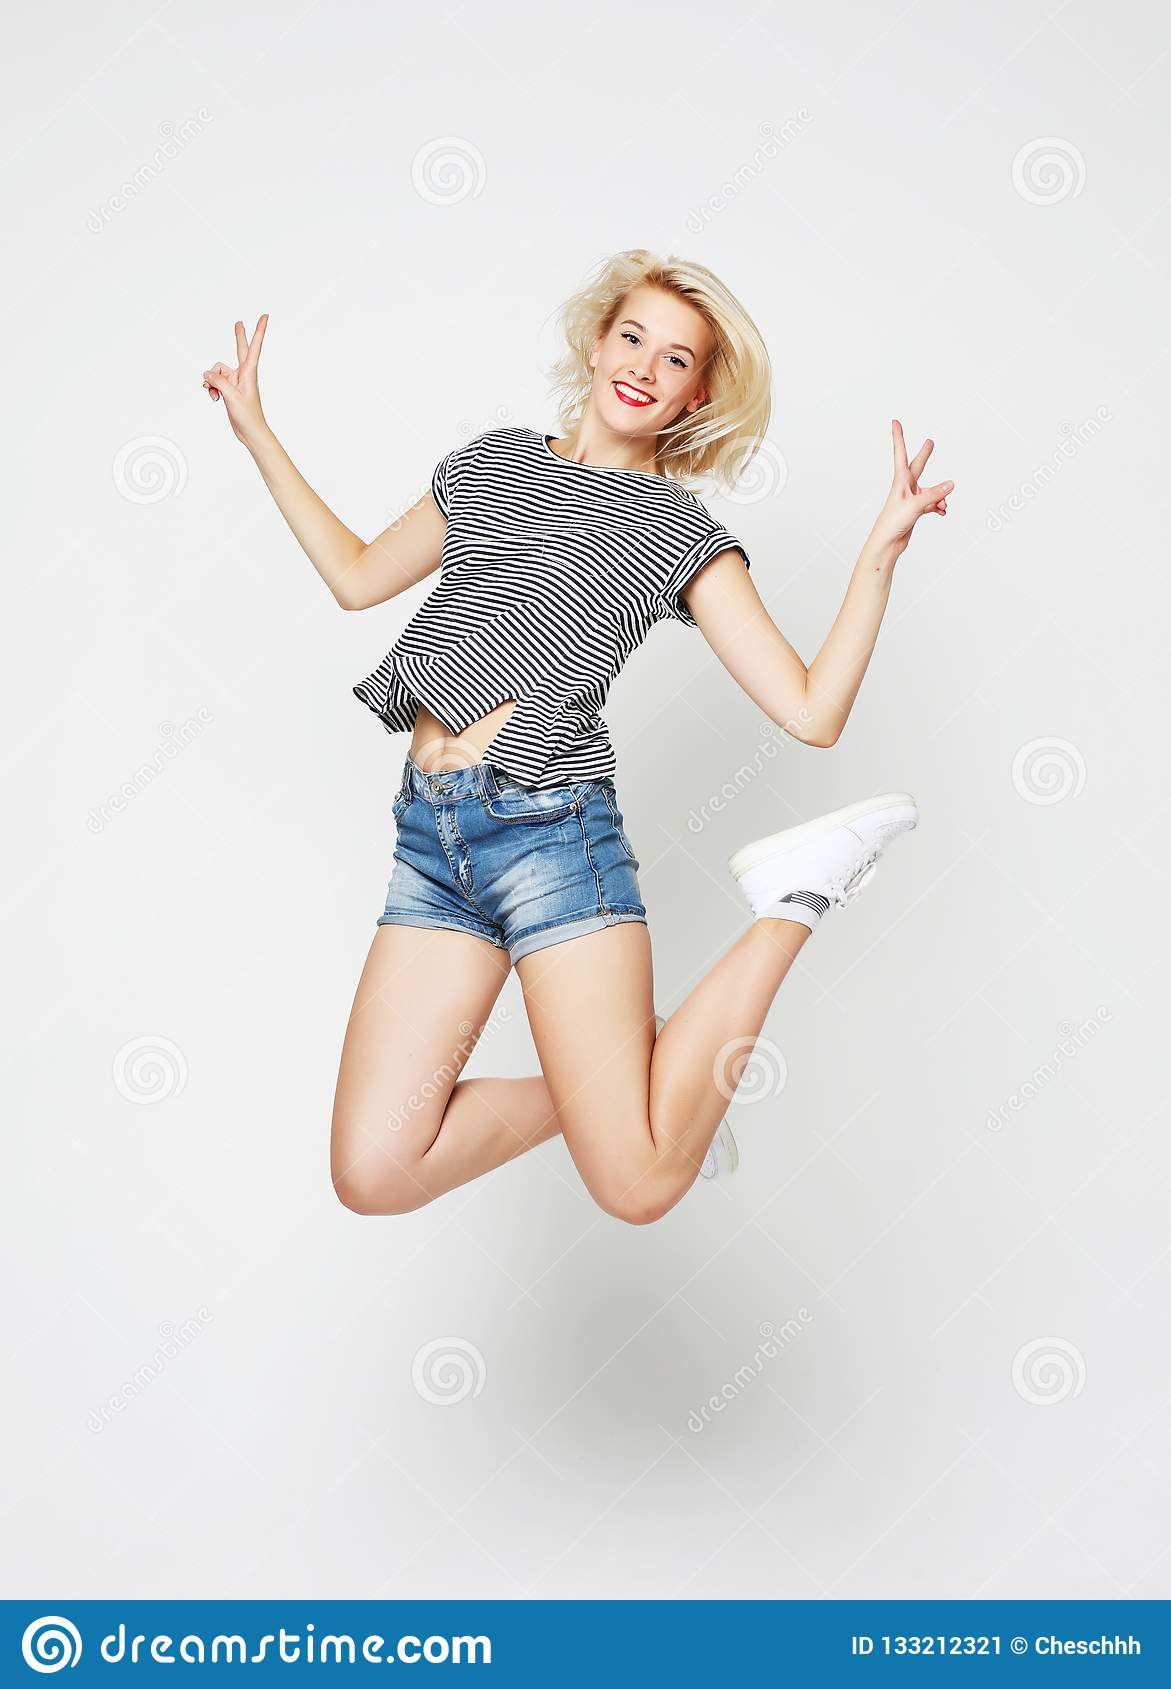Person: (194, 249, 981, 1242)
